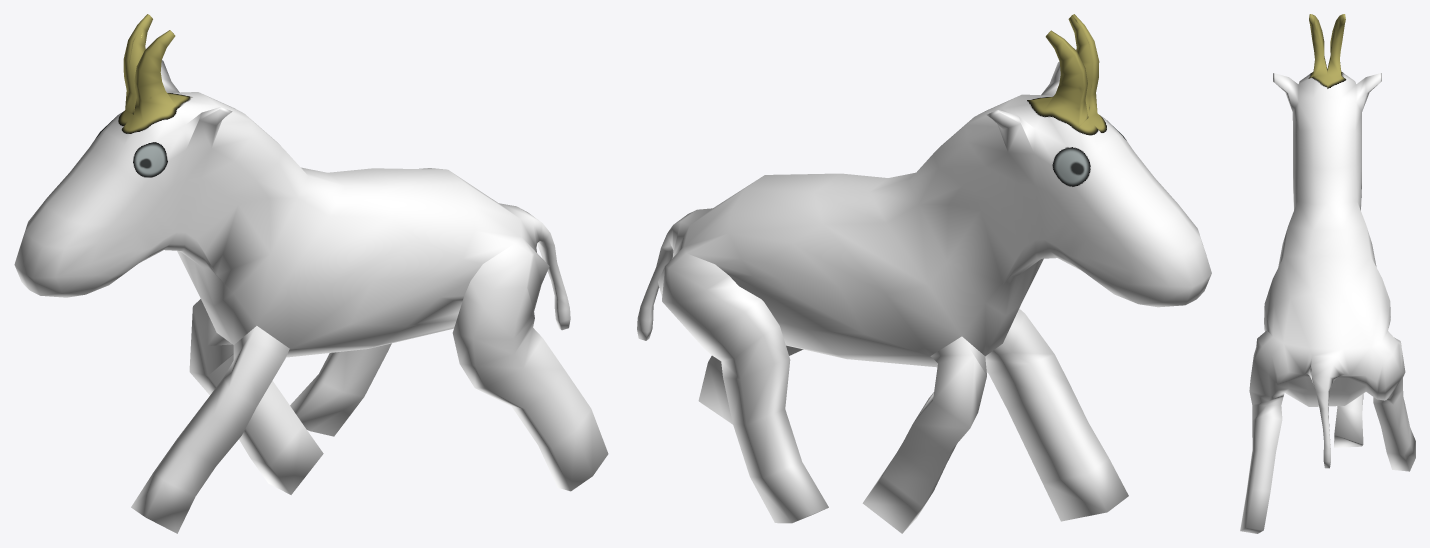
Rendered from goatAnim_000015.obj.
3 views of the same model, side by side, from view 1: azimuth 30°, elevation 25°; view 2: azimuth 150°, elevation 25°; view 3: azimuth 270°, elevation 25° (orthographic). The views are drawn at different scales.
Parts seen in each view (by area): view 1: Cube; view 2: Cube; view 3: Cube.
Part boxes in pixels (x1,y1,x2,y2): Cube: [14, 14, 608, 533]; Cube: [637, 14, 1211, 533]; Cube: [1240, 14, 1415, 533].
Bounding box in the file's own units: 1.31 × 1.18 × 0.4842.
